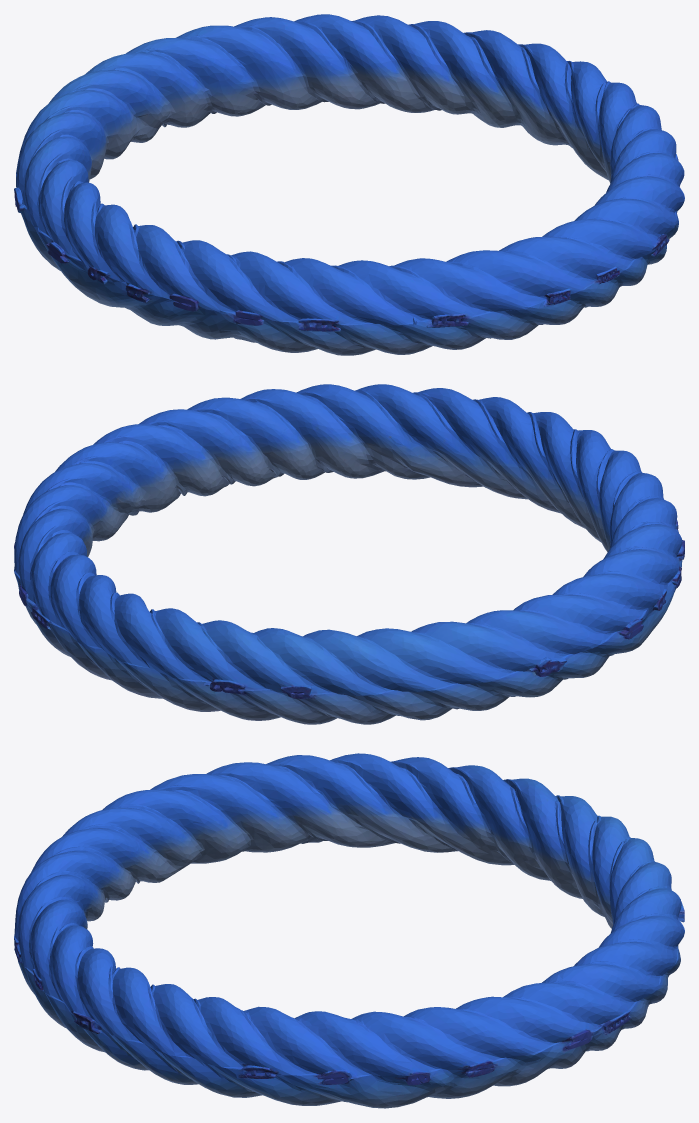
Rendered from toy_12.glb.
The picture shows the model from 3 angles, top to bottom: view 1: azimuth 30°, elevation 25°; view 2: azimuth 150°, elevation 25°; view 3: azimuth 270°, elevation 25°; orthographic projection.
Parts seen in each view (by area): view 1: tripo_node_a04ca901-e41b-4698-9daa-15889e43bd64; view 2: tripo_node_a04ca901-e41b-4698-9daa-15889e43bd64; view 3: tripo_node_a04ca901-e41b-4698-9daa-15889e43bd64.
Boxes of the visible parts, x1,y1,x2,y2 form: tripo_node_a04ca901-e41b-4698-9daa-15889e43bd64: (14, 14, 684, 355); tripo_node_a04ca901-e41b-4698-9daa-15889e43bd64: (14, 384, 684, 724); tripo_node_a04ca901-e41b-4698-9daa-15889e43bd64: (14, 753, 684, 1108).
Bounding box in the file's own units: 0.9999 × 0.1613 × 1.
1 material, 1 textured.
